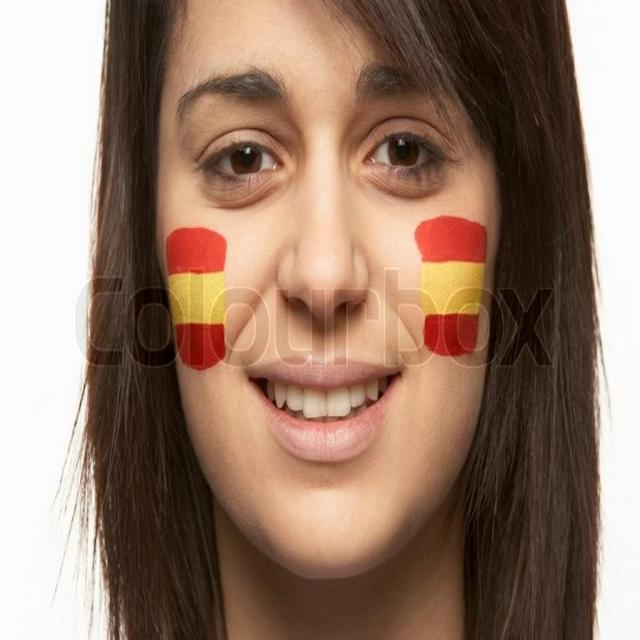nomask: (157, 4, 503, 573)
